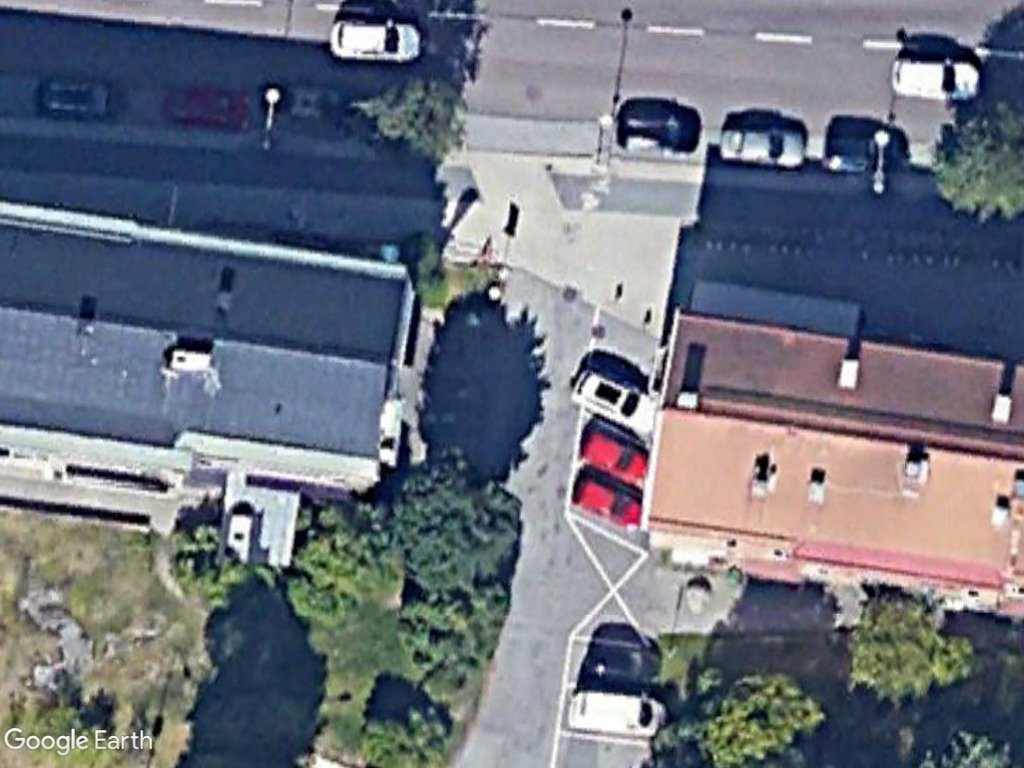car: (567, 363, 665, 437), (573, 422, 656, 490), (322, 15, 427, 67), (887, 51, 986, 104), (714, 118, 810, 170), (567, 471, 646, 534), (613, 106, 707, 157)
